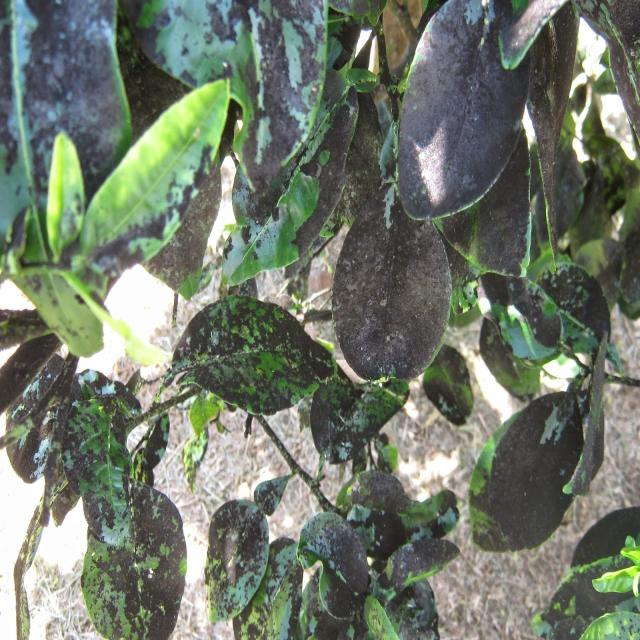Sooty Mold: (48, 8, 474, 636)
